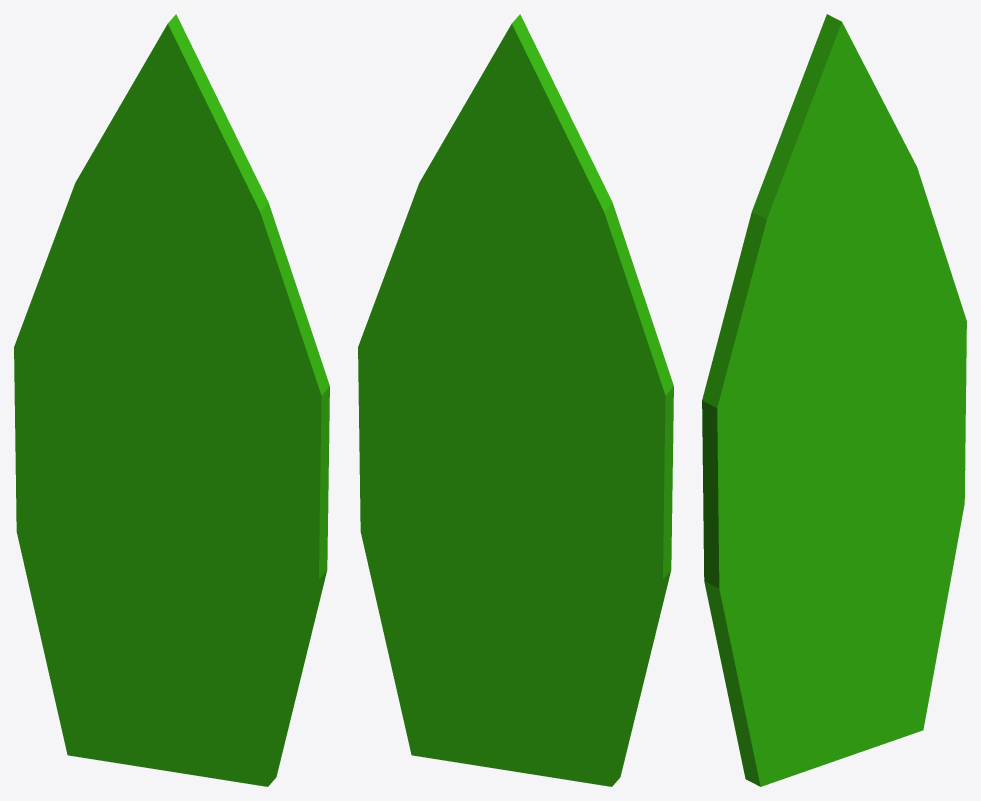
File: Rigged Grass Export 83.fbx
The picture shows the model from 3 angles, left to right: view 1: azimuth 30°, elevation 25°; view 2: azimuth 210°, elevation 25°; view 3: azimuth 270°, elevation 25°; orthographic projection.
Parts seen in each view (by area): view 1: Grass 3 Right Right 4; view 2: Grass 3 Right Right 4; view 3: Grass 3 Right Right 4.
Part boxes in pixels (bbox=[...]): Grass 3 Right Right 4: bbox=[14, 14, 329, 786]; Grass 3 Right Right 4: bbox=[358, 14, 673, 786]; Grass 3 Right Right 4: bbox=[702, 14, 966, 786].
Bounding box in the file's own units: 93.12 × 338 × 110.
